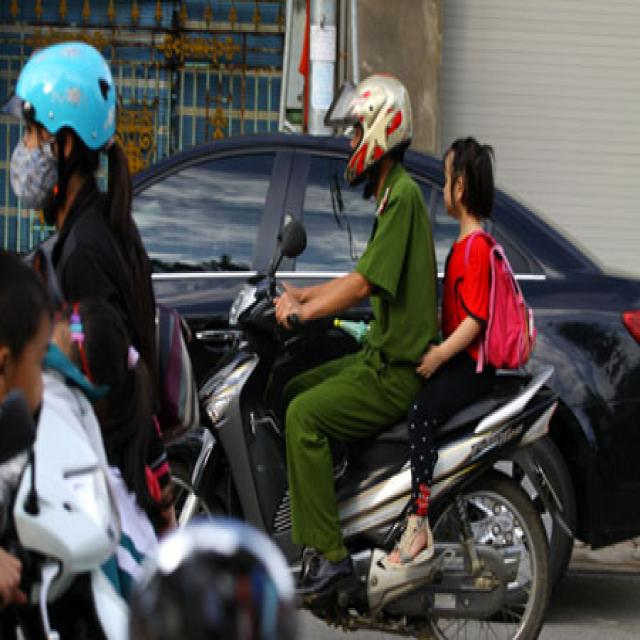Face and Hair: (436, 128, 502, 232)
Full-face-helmet: (321, 71, 414, 188)
